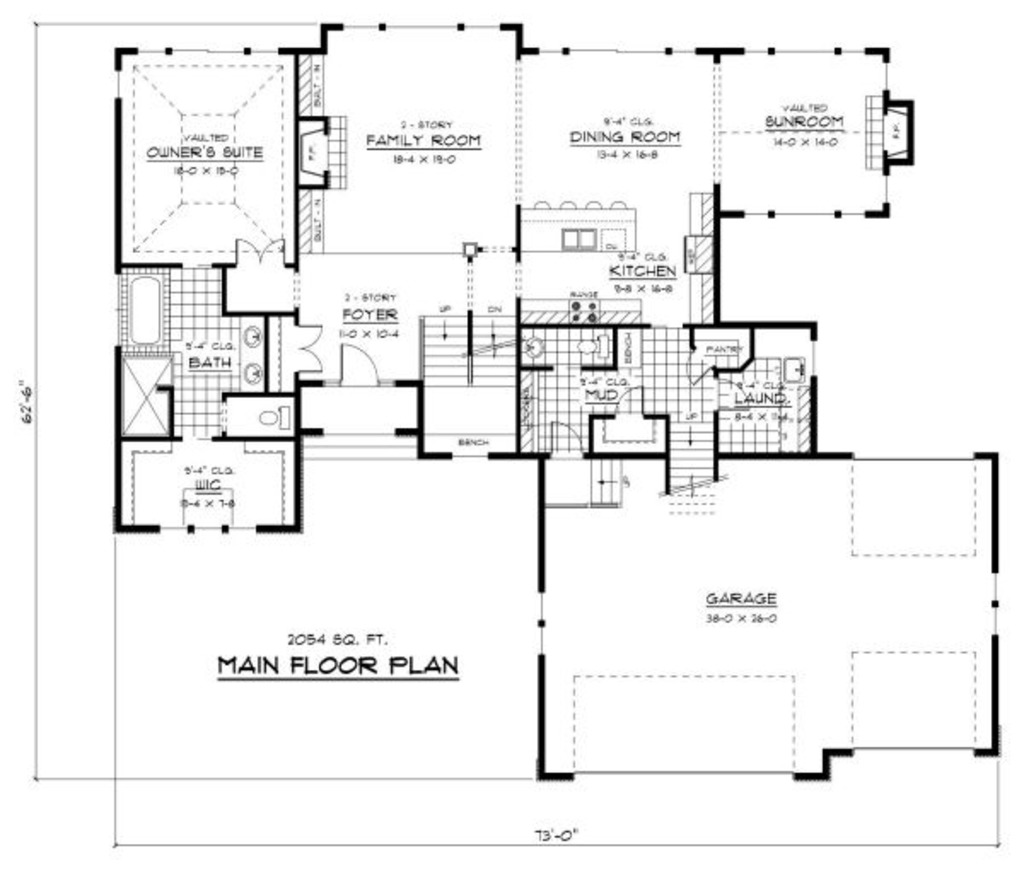door: (292, 318, 328, 385), (337, 344, 386, 393), (231, 233, 288, 270)
kitchen_bar: (513, 199, 641, 253)
large_sink: (254, 398, 291, 432)
small_sink: (237, 315, 270, 392)
stairs: (668, 414, 719, 501), (540, 459, 627, 508)
tub: (121, 260, 175, 364)
windows: (535, 43, 702, 63), (336, 15, 504, 33), (131, 42, 283, 57), (741, 41, 867, 58), (741, 206, 867, 222), (153, 518, 256, 537)
